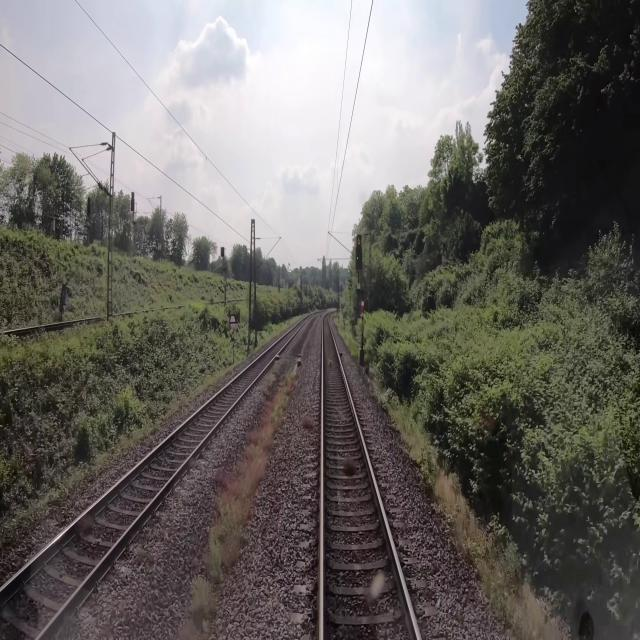Plant: (203, 369, 293, 583), (179, 573, 220, 639), (344, 456, 357, 476), (332, 408, 347, 421), (302, 418, 314, 429), (137, 547, 145, 563), (269, 371, 277, 382), (327, 356, 332, 367)
